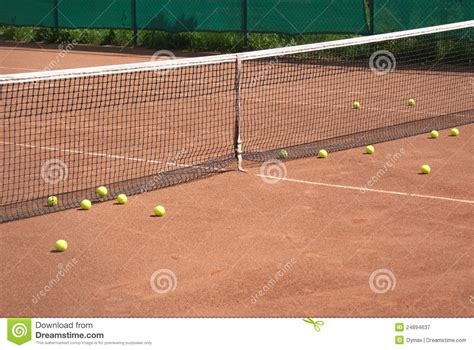tennis_ball: (95, 184, 108, 197), (153, 204, 166, 217), (55, 239, 67, 252), (419, 163, 432, 174), (80, 198, 92, 209), (116, 193, 128, 204), (48, 195, 58, 207), (365, 143, 375, 155), (318, 148, 328, 158), (450, 127, 459, 136), (429, 129, 439, 137), (407, 97, 415, 106)
